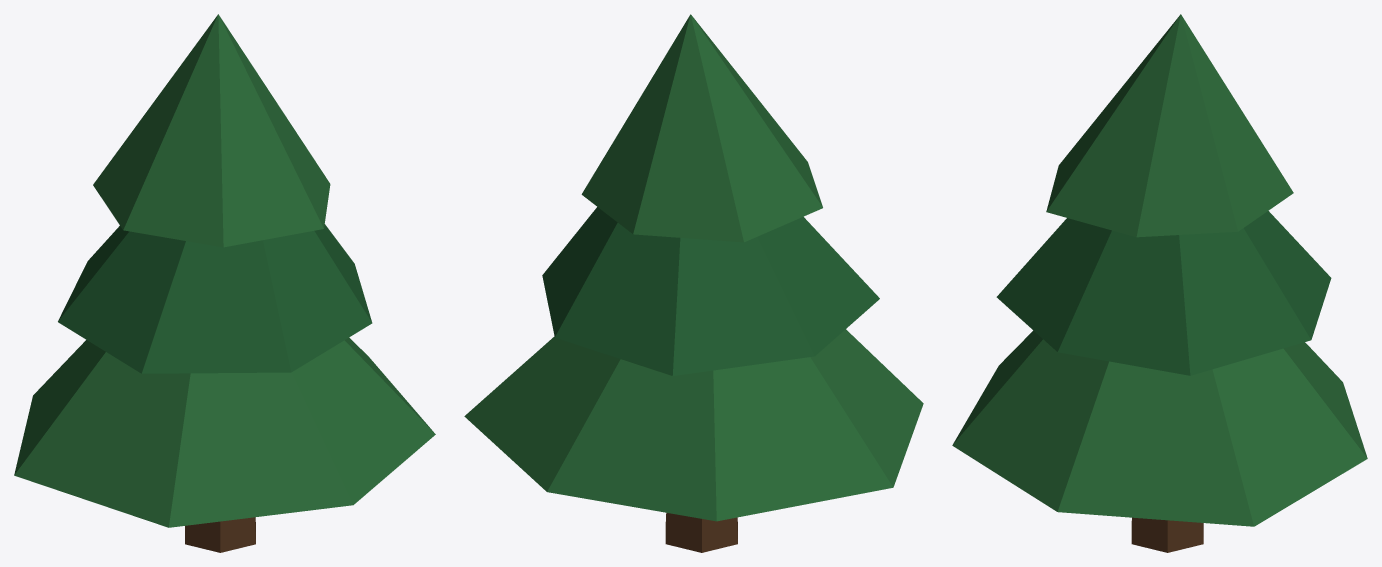
Rendered from Pine_A.glb.
The picture shows the model from 3 angles, left to right: view 1: azimuth 30°, elevation 25°; view 2: azimuth 150°, elevation 25°; view 3: azimuth 270°, elevation 25°; orthographic projection.
Parts seen in each view (by area): view 1: Pine; view 2: Pine; view 3: Pine.
Part boxes in pixels (<box>): Pine: <box>14,14,435,552</box>; Pine: <box>464,14,923,552</box>; Pine: <box>952,14,1367,552</box>.
Bounding box in the file's own units: 0.5999 × 0.762 × 0.5482.
